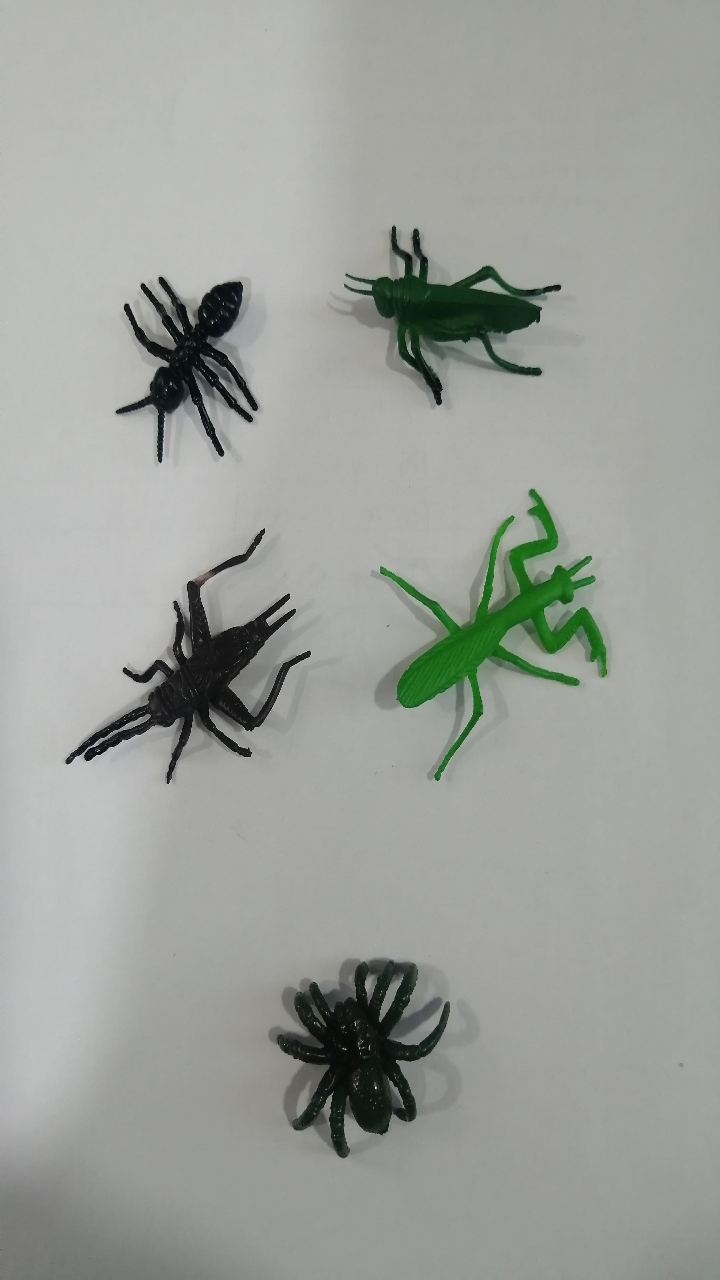intruso: (335, 477, 623, 806), (35, 509, 326, 819), (308, 200, 575, 439), (241, 923, 480, 1174), (81, 237, 289, 480)
